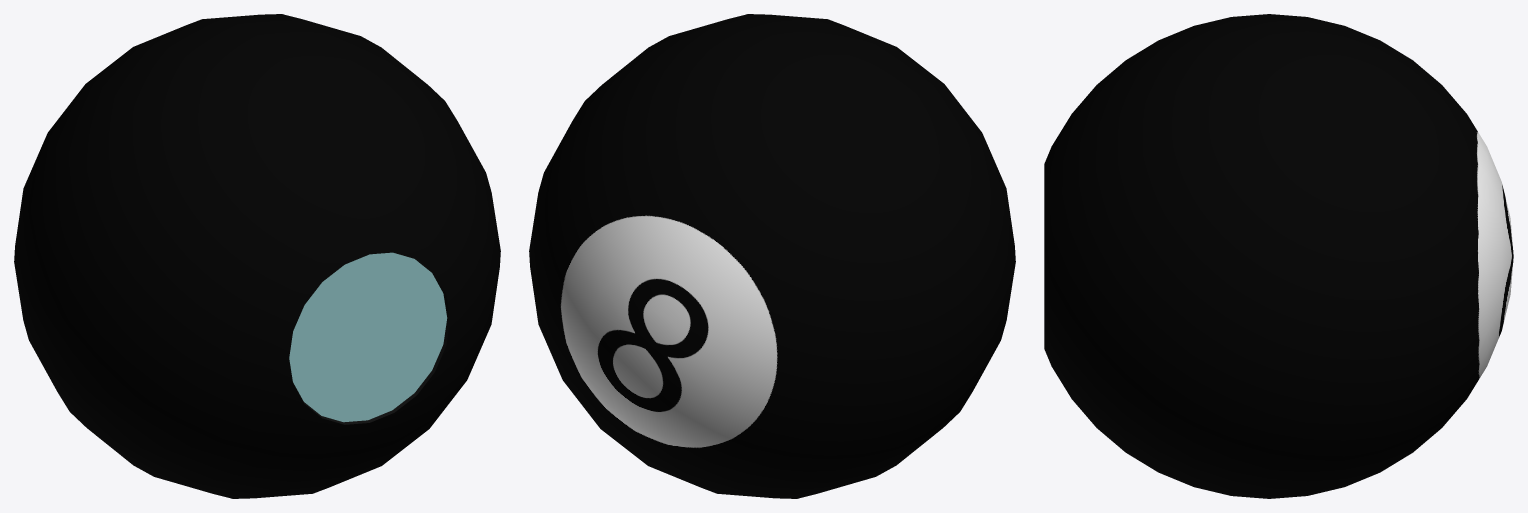
File: 8ball.glb
3 views of the same model, side by side, from view 1: azimuth 30°, elevation 25°; view 2: azimuth 150°, elevation 25°; view 3: azimuth 270°, elevation 25° (orthographic).
Parts seen in each view (by area): view 1: Ball, BallGlass; view 2: Ball; view 3: Ball.
Part boxes in pixels (x1,y1,x2,y2): Ball: [14, 14, 500, 498]; BallGlass: [289, 252, 447, 422]; Ball: [529, 14, 1015, 498]; Ball: [1044, 14, 1513, 498].
Bounding box in the file's own units: 2 × 2 × 1.92.
1 material, 1 textured.
